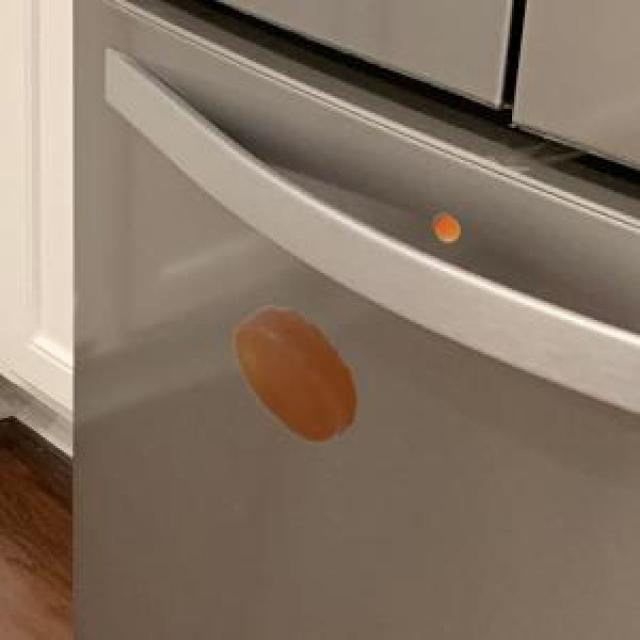Bactidol: (222, 283, 370, 459), (419, 200, 467, 250)
